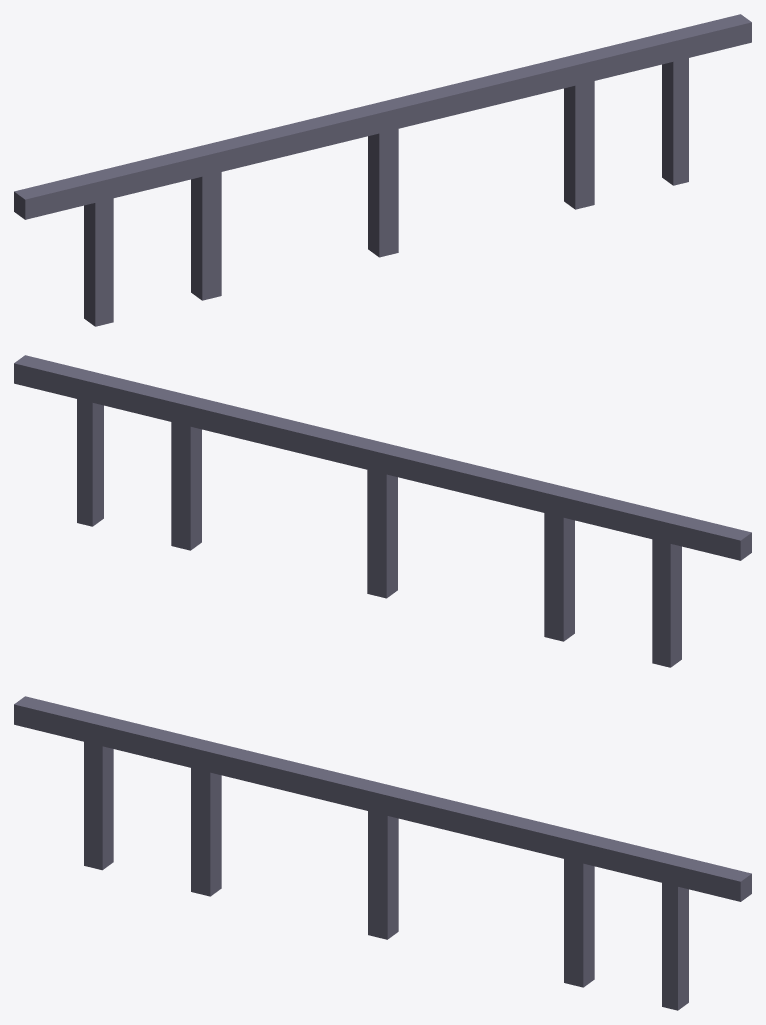
Rendered from railing.fbx.
The picture shows the model from 3 angles, top to bottom: view 1: azimuth 30°, elevation 25°; view 2: azimuth 150°, elevation 25°; view 3: azimuth 330°, elevation 25°; orthographic projection.
Parts seen in each view (by area): view 1: railing; view 2: railing; view 3: railing.
Part boxes in pixels (x1,y1,x2,y2): railing: (14, 14, 751, 326); railing: (14, 355, 751, 667); railing: (14, 696, 751, 1010).
Bounding box in the file's own units: 399 × 75.74 × 10.63.
